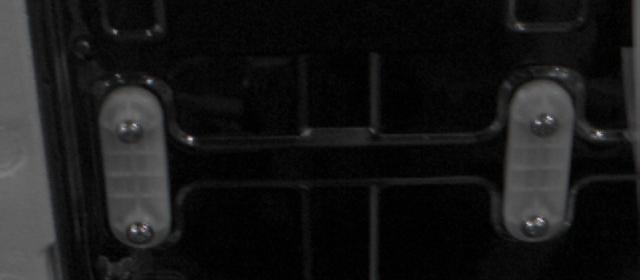vida-ok: (527, 111, 562, 140), (114, 118, 147, 146), (124, 220, 155, 245), (520, 216, 552, 240)
